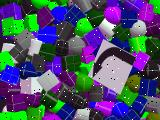Left: (88, 39, 136, 95)
